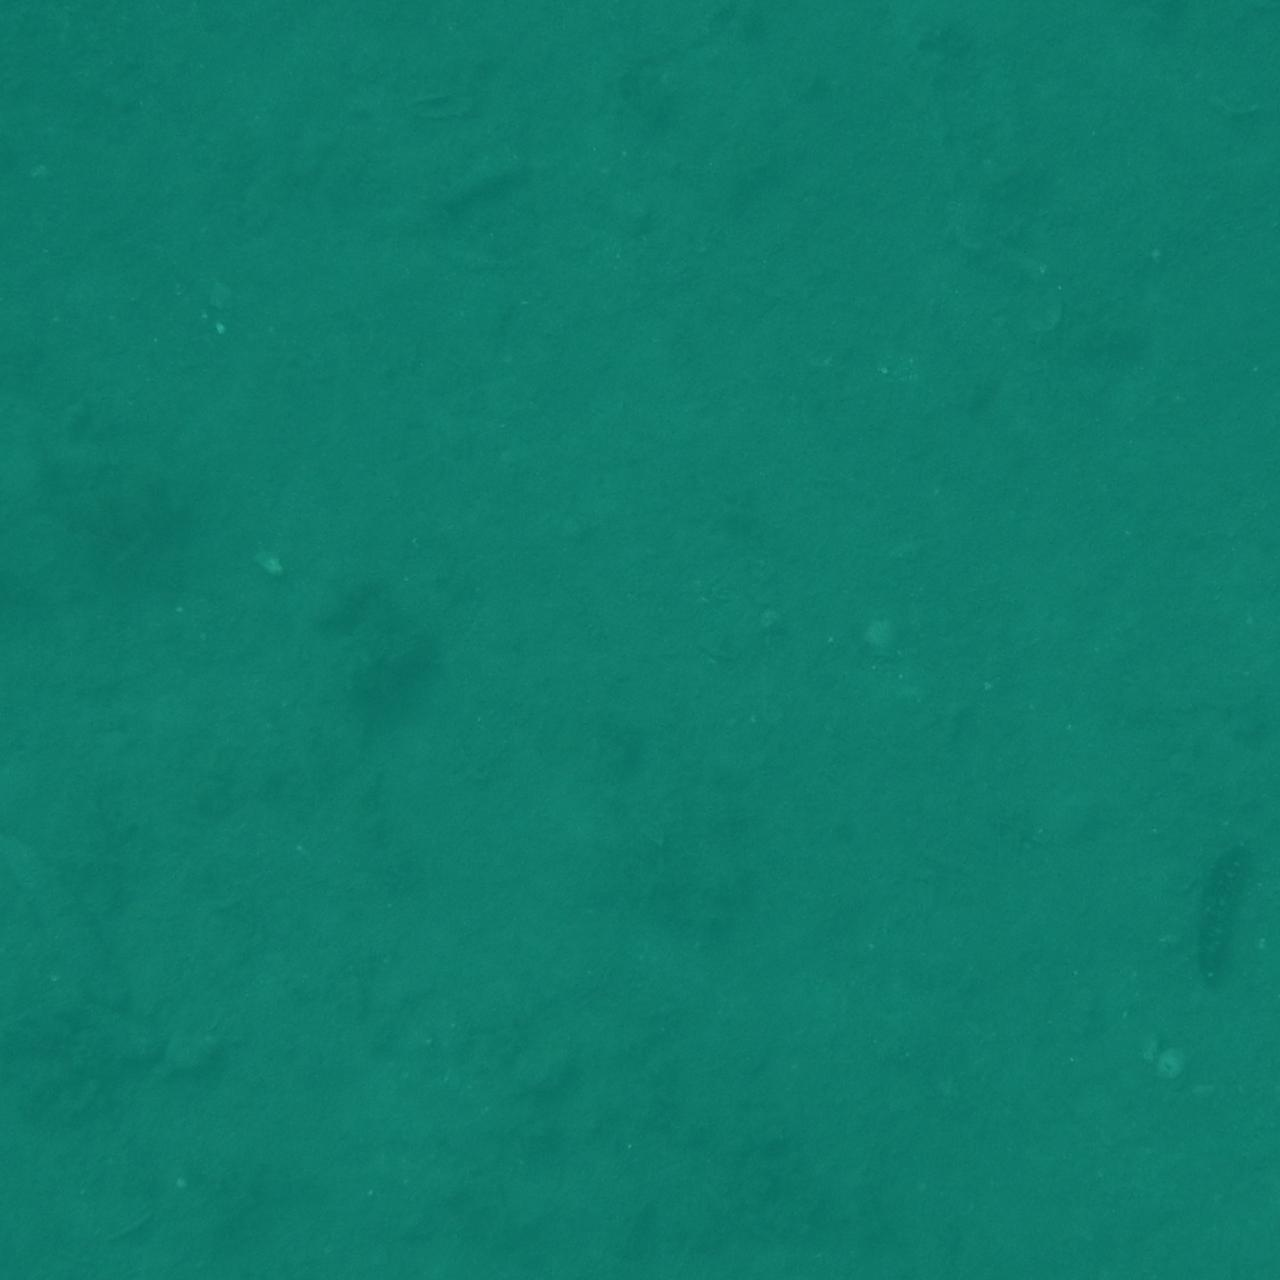Holothuria tubulosa: (0, 397, 103, 639), (658, 1144, 840, 1280), (1162, 538, 1280, 729), (1033, 1165, 1203, 1280), (565, 1191, 782, 1280), (1143, 74, 1280, 215), (1175, 839, 1269, 1027), (476, 0, 730, 61), (1157, 0, 1280, 125), (0, 1159, 128, 1280), (372, 1210, 588, 1280), (993, 0, 1167, 80), (0, 1177, 129, 1280), (0, 614, 103, 742), (1160, 1177, 1280, 1280), (16, 1183, 129, 1280), (1143, 279, 1280, 354), (0, 0, 144, 69), (0, 154, 42, 361), (0, 0, 111, 79), (1214, 1157, 1280, 1280), (1207, 0, 1280, 110), (416, 145, 524, 217)
Rifiuto: (0, 1179, 137, 1280)
